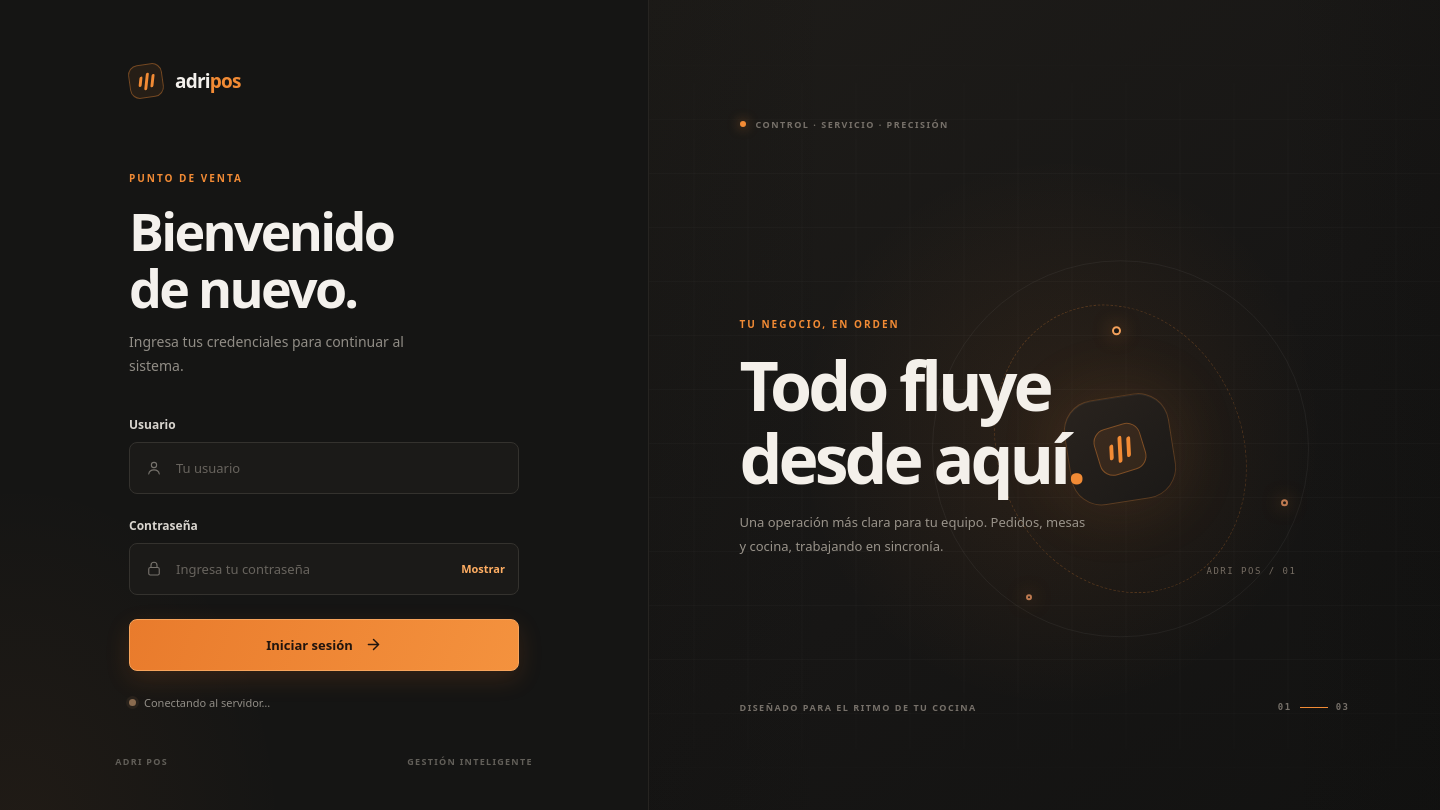
LoginView › shows authentication errors to the user
Type "Ana" into the field with id "username" at (340, 468), box 163,443 -> 518,493
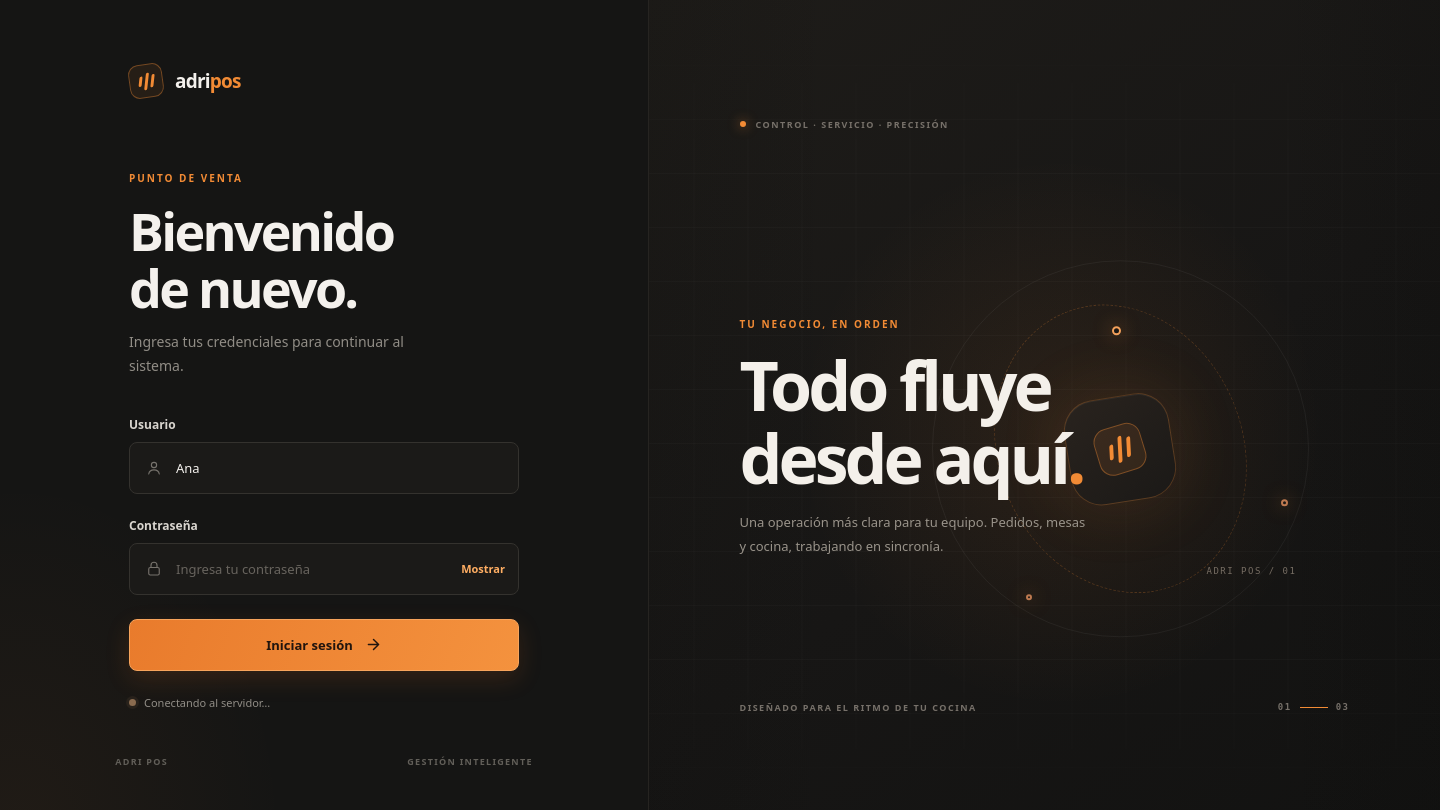
Type "incorrecta" into the password field labelled "Contraseña" at (310, 569), box 163,544 -> 457,594
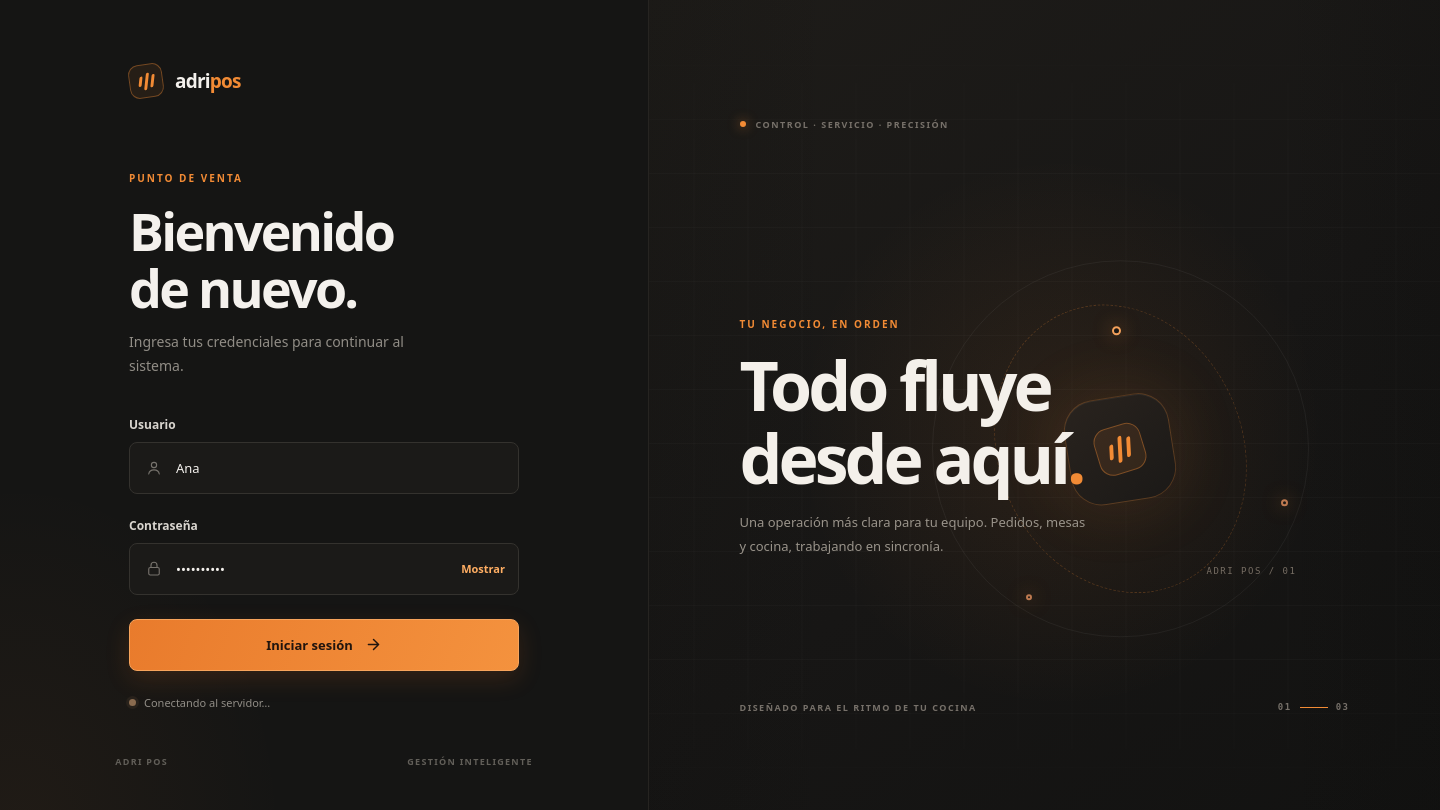
Submit the form, box 129,416 -> 519,671
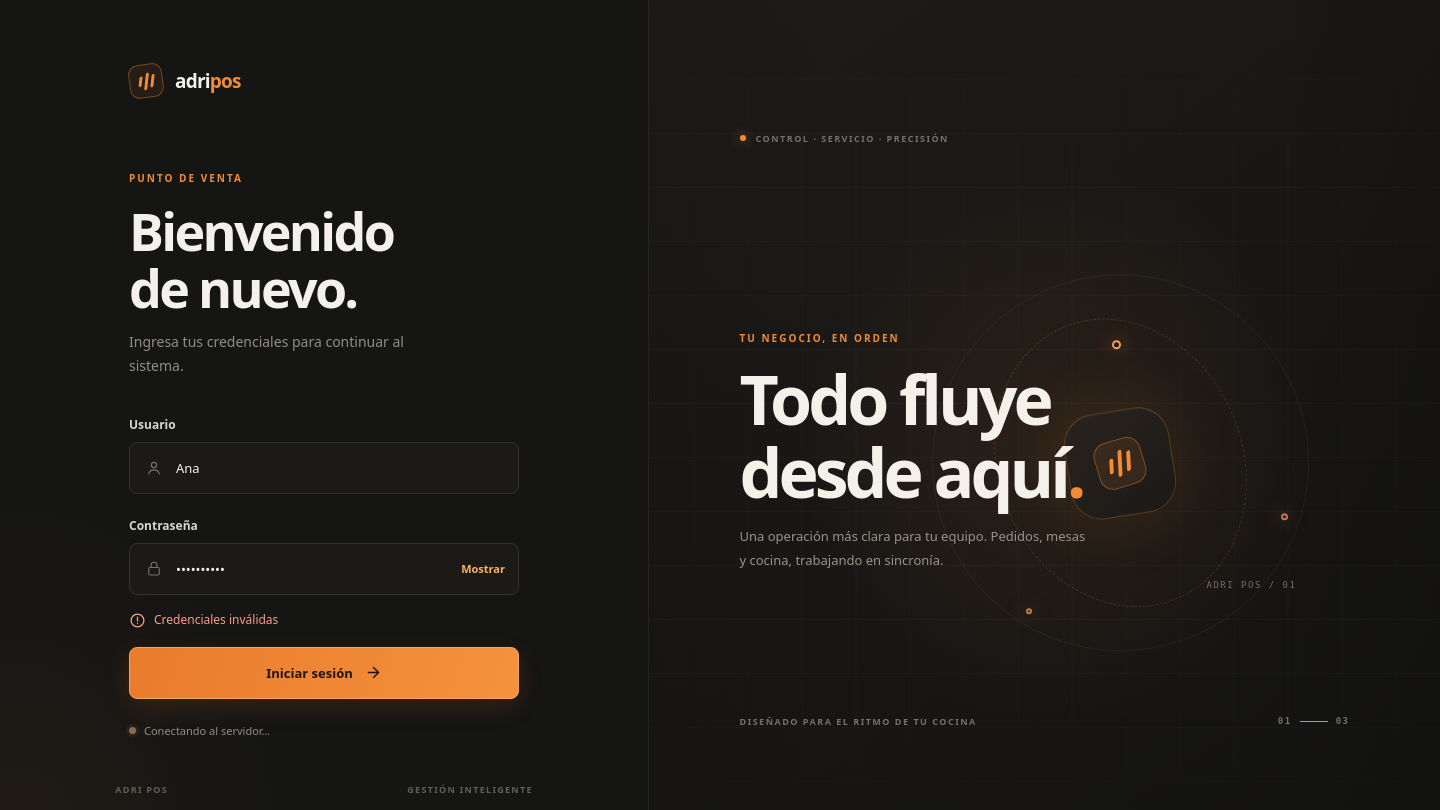
Expected: the message "Credenciales inválidas" is shown, 129,611 -> 278,629
